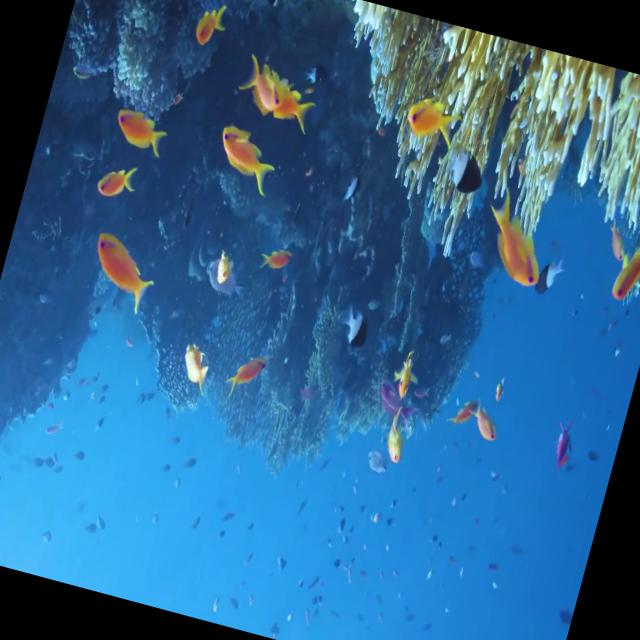fish: (472, 186, 560, 292), (83, 230, 163, 317), (208, 122, 282, 198), (234, 51, 290, 116), (111, 108, 169, 156), (608, 226, 640, 312), (380, 398, 416, 469), (175, 334, 217, 394), (459, 396, 506, 446), (94, 155, 138, 203), (226, 354, 264, 398), (388, 346, 418, 398)
